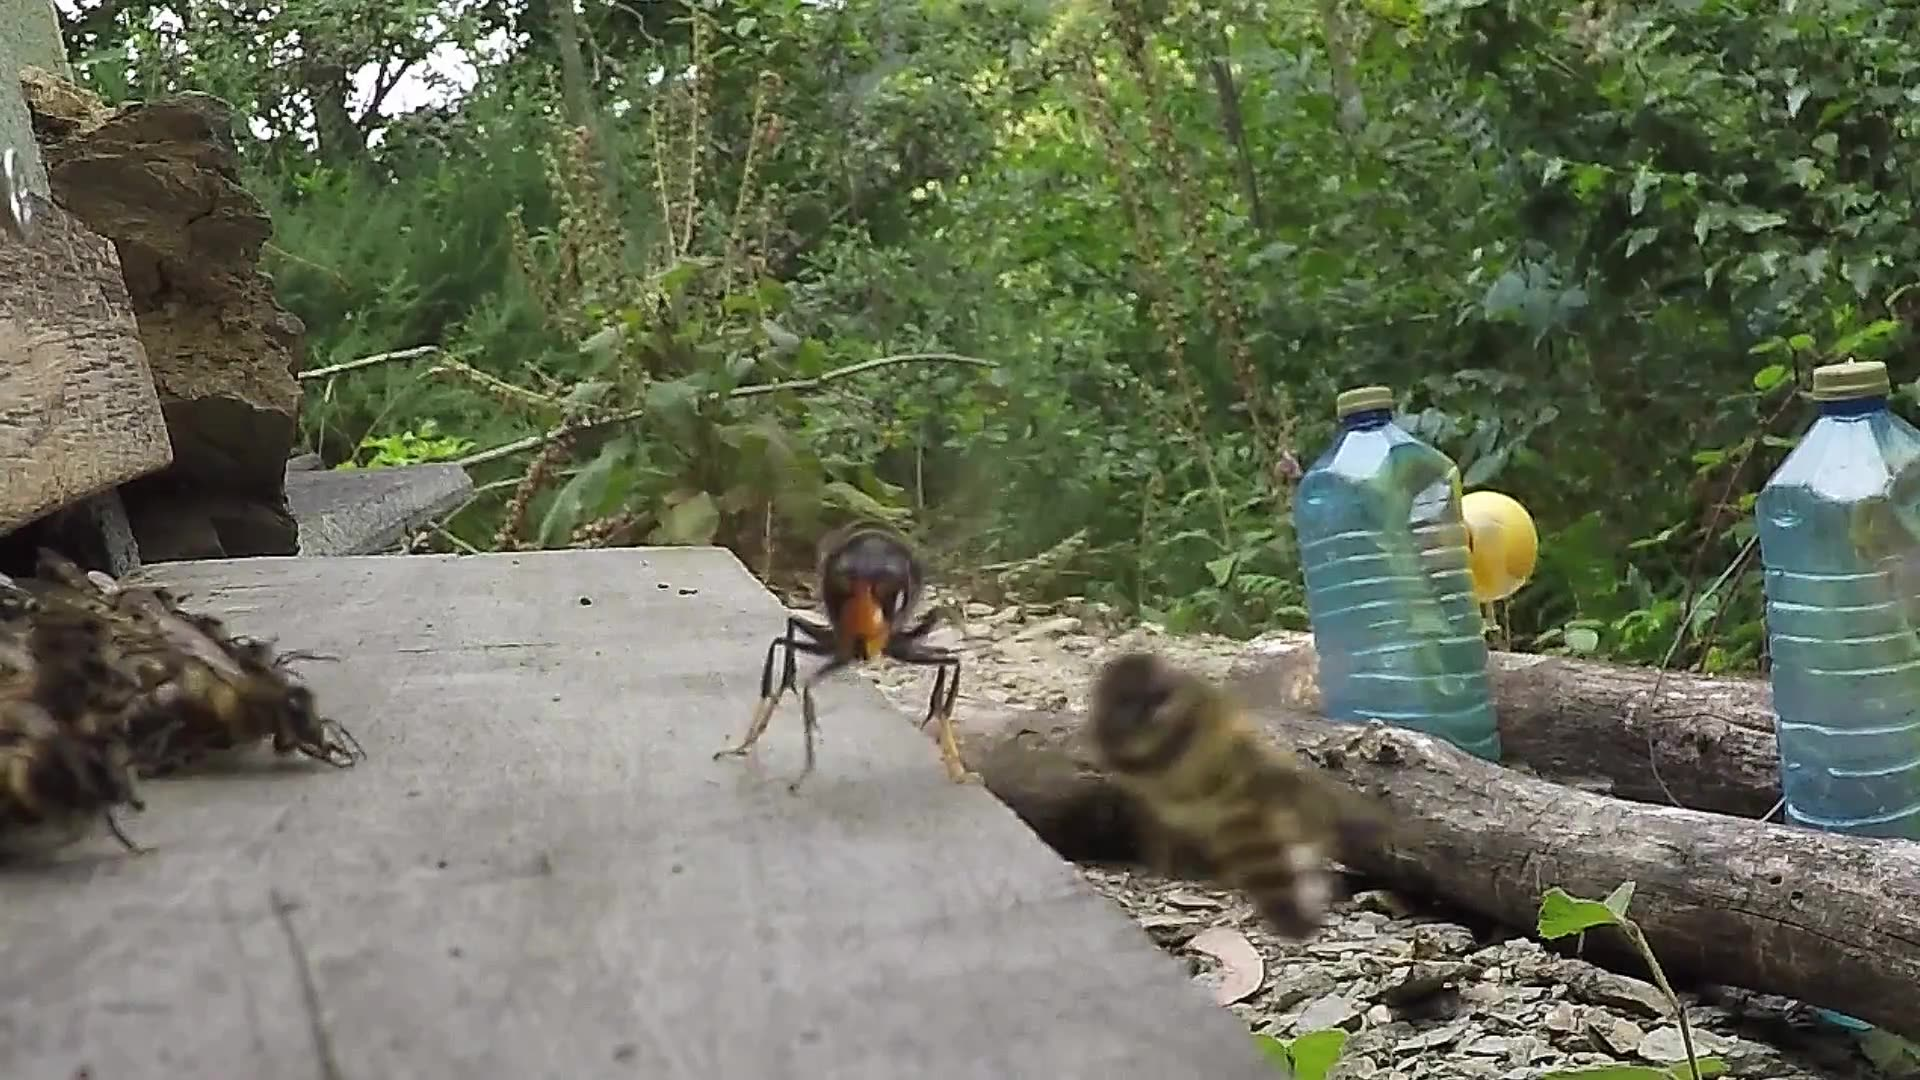bee: (1, 541, 355, 853), (1055, 629, 1352, 942)
hornet: (782, 501, 965, 723)
